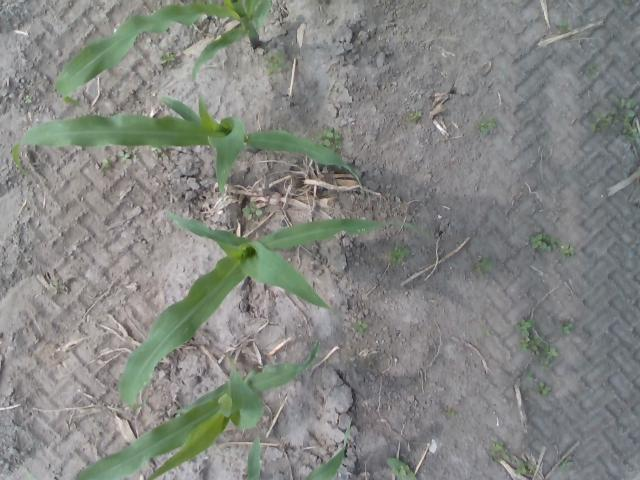Maize: (116, 209, 417, 407), (12, 93, 364, 196), (76, 340, 322, 480), (55, 0, 272, 108), (245, 430, 419, 480)
Weeds: (590, 108, 619, 131), (242, 202, 262, 222), (321, 128, 341, 146), (530, 234, 548, 250), (160, 52, 180, 66), (476, 257, 492, 274), (518, 330, 530, 352), (622, 109, 635, 129), (619, 128, 638, 140), (543, 344, 557, 360), (530, 336, 541, 355), (516, 320, 536, 330), (557, 18, 571, 32), (272, 52, 288, 64), (536, 382, 552, 394), (392, 466, 408, 478), (490, 442, 504, 455), (406, 110, 424, 120), (585, 62, 597, 76), (562, 244, 574, 258), (546, 238, 558, 252), (390, 250, 404, 262), (514, 460, 526, 474), (560, 456, 572, 470), (622, 98, 638, 108), (558, 324, 574, 334), (266, 61, 278, 74), (519, 372, 534, 382), (118, 150, 128, 162), (540, 360, 550, 372), (446, 408, 456, 418), (356, 322, 367, 331), (486, 118, 494, 127), (476, 121, 484, 129), (25, 96, 32, 104), (486, 330, 490, 336)
